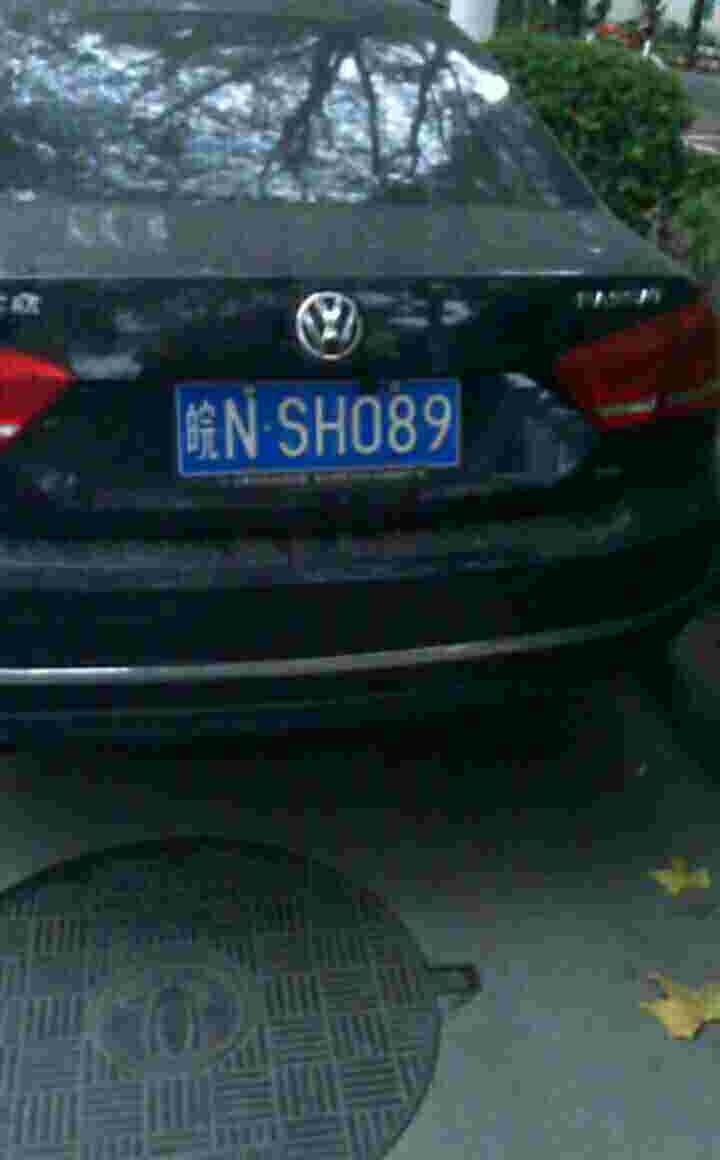license_plate: (169, 380, 459, 480)
